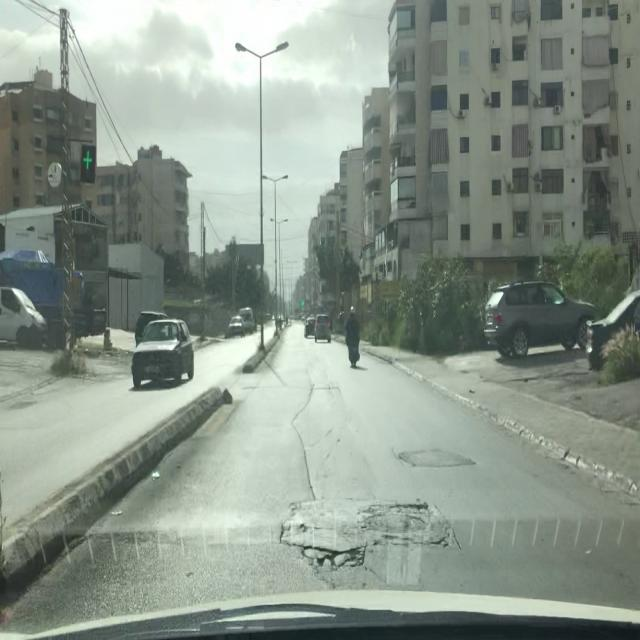Pothole: (296, 539, 366, 578)
